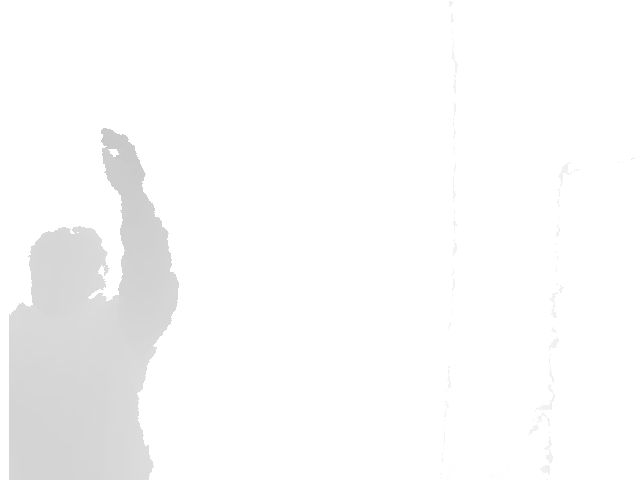hand: (98, 126, 147, 189)
head: (27, 226, 111, 310)
person: (8, 126, 181, 480)
